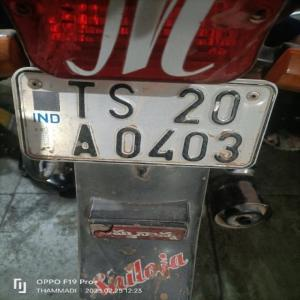Plate: (25, 71, 278, 172)
